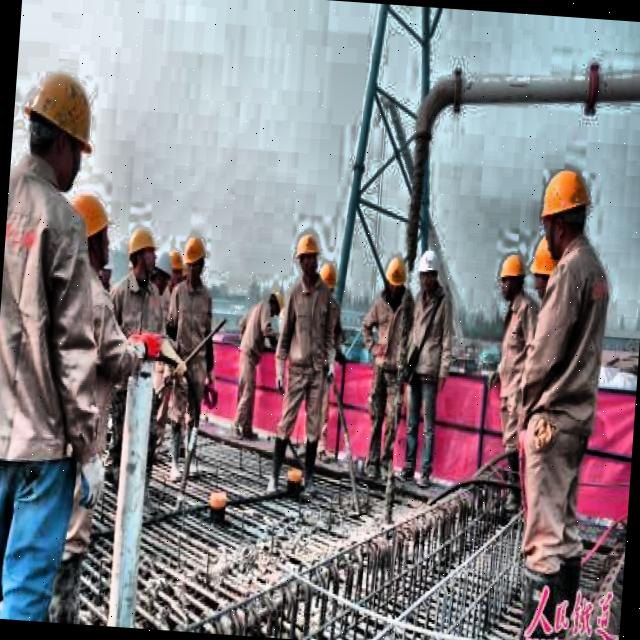helmet: (18, 54, 104, 196), (533, 158, 595, 268), (65, 185, 116, 267), (528, 230, 564, 306), (121, 220, 160, 288), (495, 250, 527, 314), (294, 232, 324, 282), (380, 251, 410, 297), (147, 248, 175, 294), (416, 244, 440, 290), (182, 233, 204, 279), (266, 282, 290, 318)
